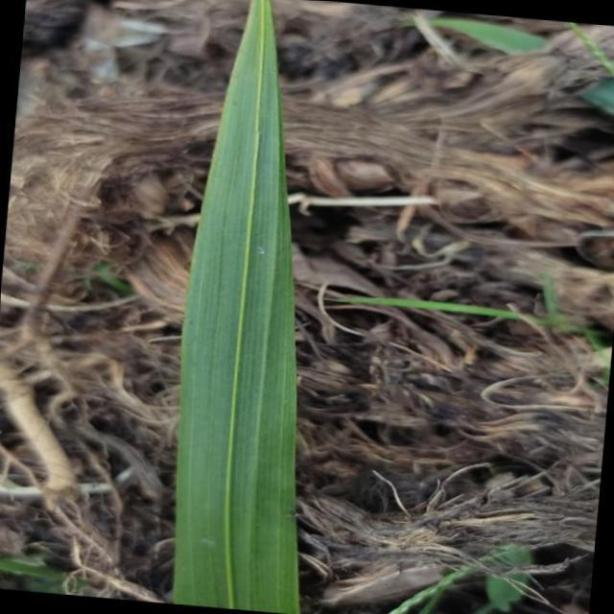Healthy: (168, 0, 297, 614)
